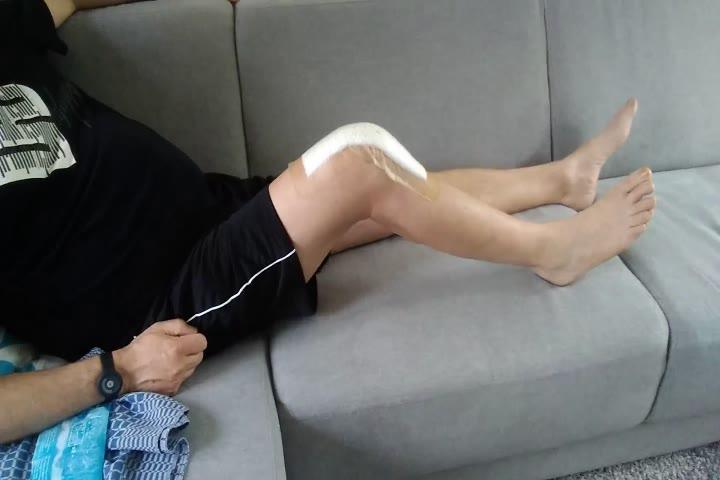lowerbody: (120, 90, 670, 382)
